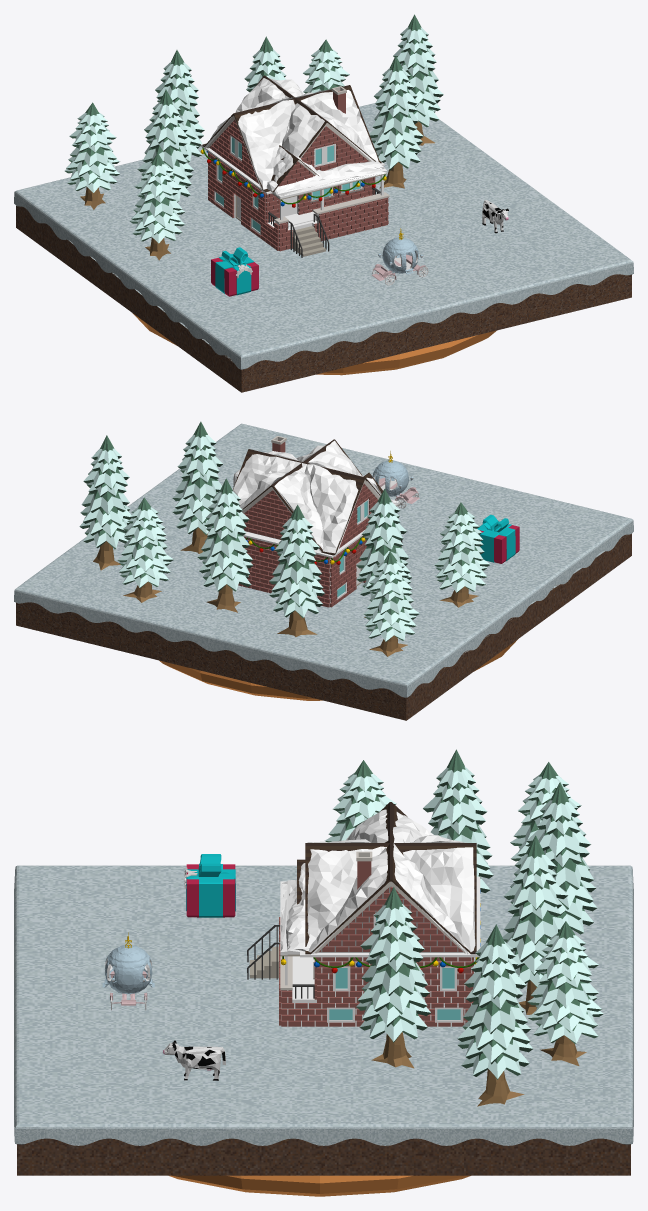
3 renders of one model, top to bottom at view 1: azimuth 30°, elevation 25°; view 2: azimuth 150°, elevation 25°; view 3: azimuth 270°, elevation 25°, orthographic. The views are drawn at different scales.
Parts seen in each view (by area): view 1: Cube.003, Cube.1419, UNDERGROUND_PIZZA, OBJRANDOM_GIANT_PRESENT, VEHICLES_FANTASY_CARRIAGE, ANIMAL_VACA; view 2: Cube.003, Cube.1419, UNDERGROUND_PIZZA, OBJRANDOM_GIANT_PRESENT, VEHICLES_FANTASY_CARRIAGE; view 3: Cube.003, Cube.1419, UNDERGROUND_PIZZA, OBJRANDOM_GIANT_PRESENT, VEHICLES_FANTASY_CARRIAGE, ANIMAL_VACA.
Part boxes in pixels (box(x1,y1,x2,y2)): Cube.003: box(14, 14, 633, 392); Cube.1419: box(200, 75, 389, 257); UNDERGROUND_PIZZA: box(132, 313, 496, 375); OBJRANDOM_GIANT_PRESENT: box(211, 247, 258, 296); VEHICLES_FANTASY_CARRIAGE: box(371, 228, 428, 285); ANIMAL_VACA: box(482, 200, 508, 233); Cube.003: box(14, 421, 633, 720); Cube.1419: box(232, 436, 402, 607); UNDERGROUND_PIZZA: box(159, 639, 517, 700); OBJRANDOM_GIANT_PRESENT: box(477, 514, 519, 563); VEHICLES_FANTASY_CARRIAGE: box(372, 451, 419, 508); Cube.003: box(14, 749, 633, 1175); Cube.1419: box(247, 802, 480, 1026); UNDERGROUND_PIZZA: box(169, 1175, 470, 1196); OBJRANDOM_GIANT_PRESENT: box(184, 854, 235, 917); VEHICLES_FANTASY_CARRIAGE: box(102, 932, 154, 1010); ANIMAL_VACA: box(163, 1040, 225, 1080).
Size of the model in its own units: 4040 by 1904 by 4040.
Materials: 37 (3 with a texture image).
